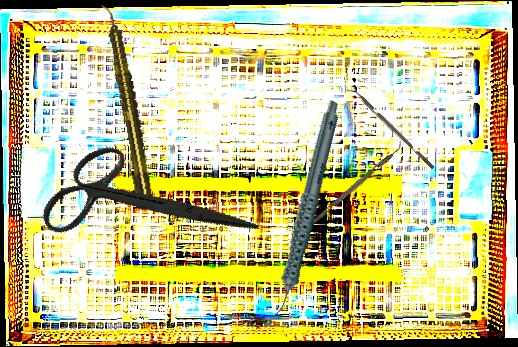Chopper: (303, 139, 406, 228), (346, 84, 435, 174)
Handpiece: (226, 99, 383, 321), (100, 1, 157, 213)
Iris Scissors: (26, 104, 260, 303)
